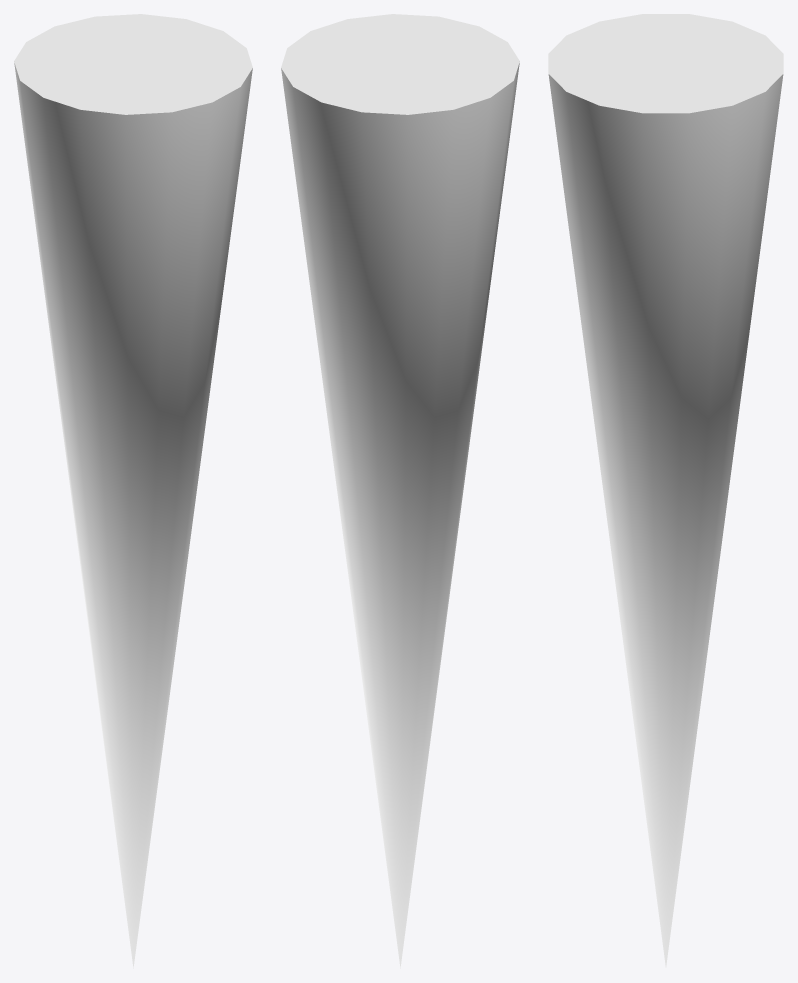
Rendered from light_cone.fbx.
The picture shows the model from 3 angles, left to right: view 1: azimuth 30°, elevation 25°; view 2: azimuth 150°, elevation 25°; view 3: azimuth 270°, elevation 25°; orthographic projection.
Visible parts, largest first — view 1: light_cone; view 2: light_cone; view 3: light_cone.
Boxes of the visible parts, bbox=[...] form: light_cone: bbox=[14, 14, 252, 968]; light_cone: bbox=[281, 14, 519, 968]; light_cone: bbox=[548, 14, 783, 967].
Size of the model in its own units: 2.81 by 11.96 by 2.81.
